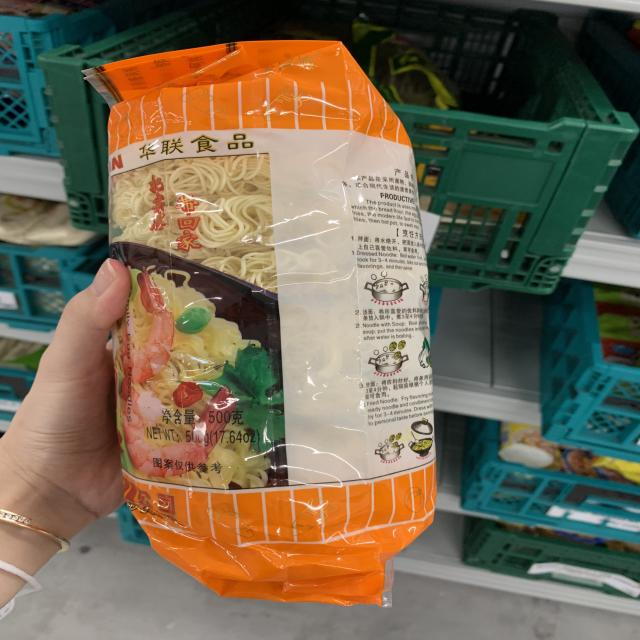object_name: (121, 59, 421, 581)
